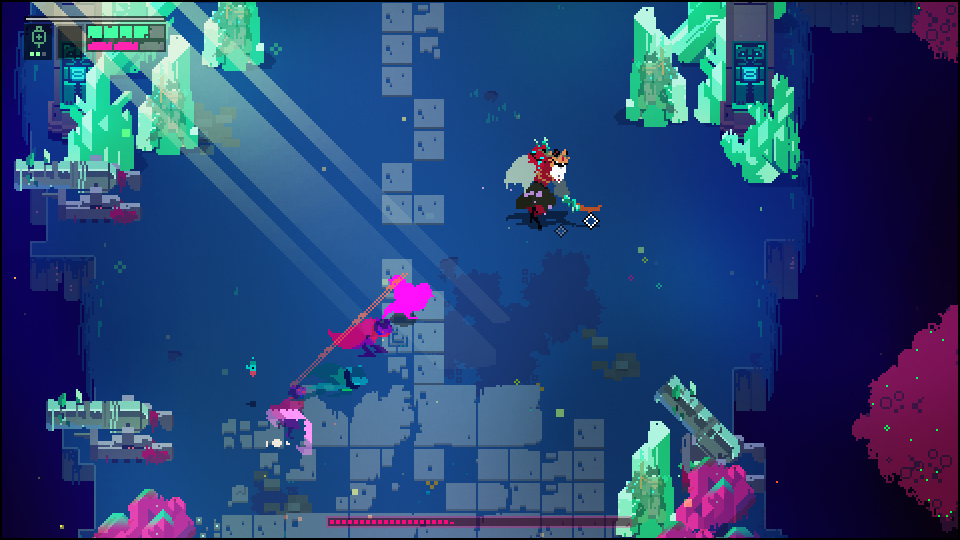hanged_man: (501, 134, 594, 232)
player: (384, 274, 435, 327)
